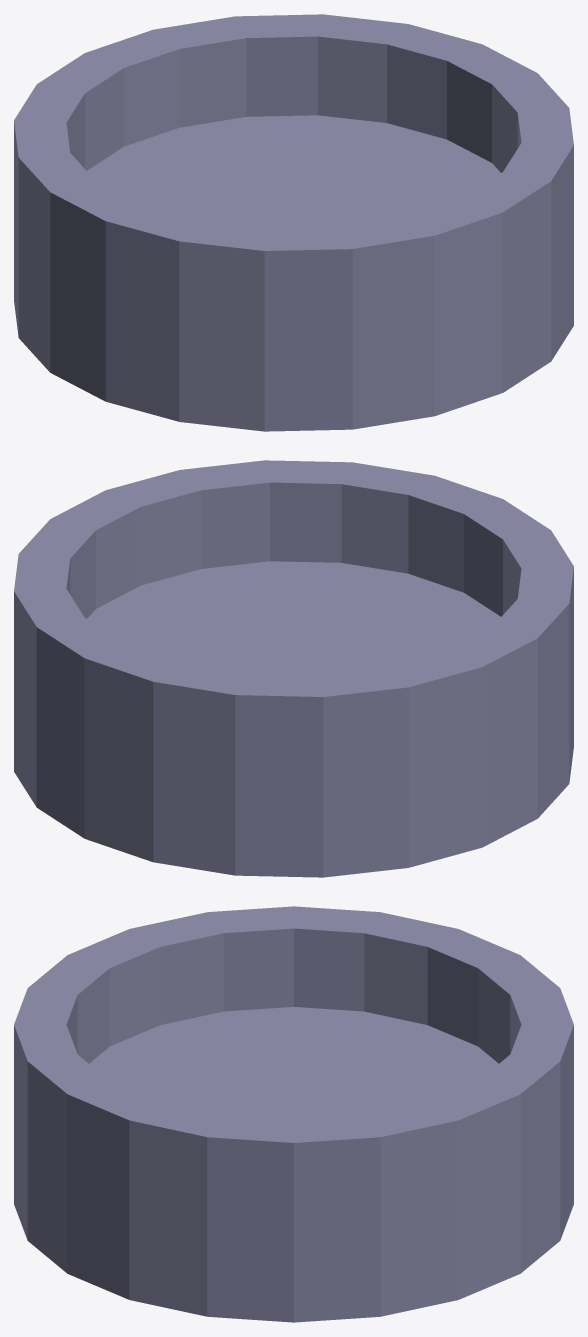
Rendered from track_roller_LowPoly.obj.
3 views of the same model, one above another, from view 1: azimuth 30°, elevation 25°; view 2: azimuth 150°, elevation 25°; view 3: azimuth 270°, elevation 25° (orthographic).
Visible parts, largest first — view 1: track_roller_LowPoly\Facets; view 2: track_roller_LowPoly\Facets; view 3: track_roller_LowPoly\Facets.
Boxes of the visible parts, x1=… form: track_roller_LowPoly\Facets: x1=14, y1=14, x2=573, y2=431; track_roller_LowPoly\Facets: x1=14, y1=460, x2=573, y2=877; track_roller_LowPoly\Facets: x1=14, y1=906, x2=573, y2=1322.
Size of the model in its own units: 0.3241 by 0.1147 by 0.3241.
